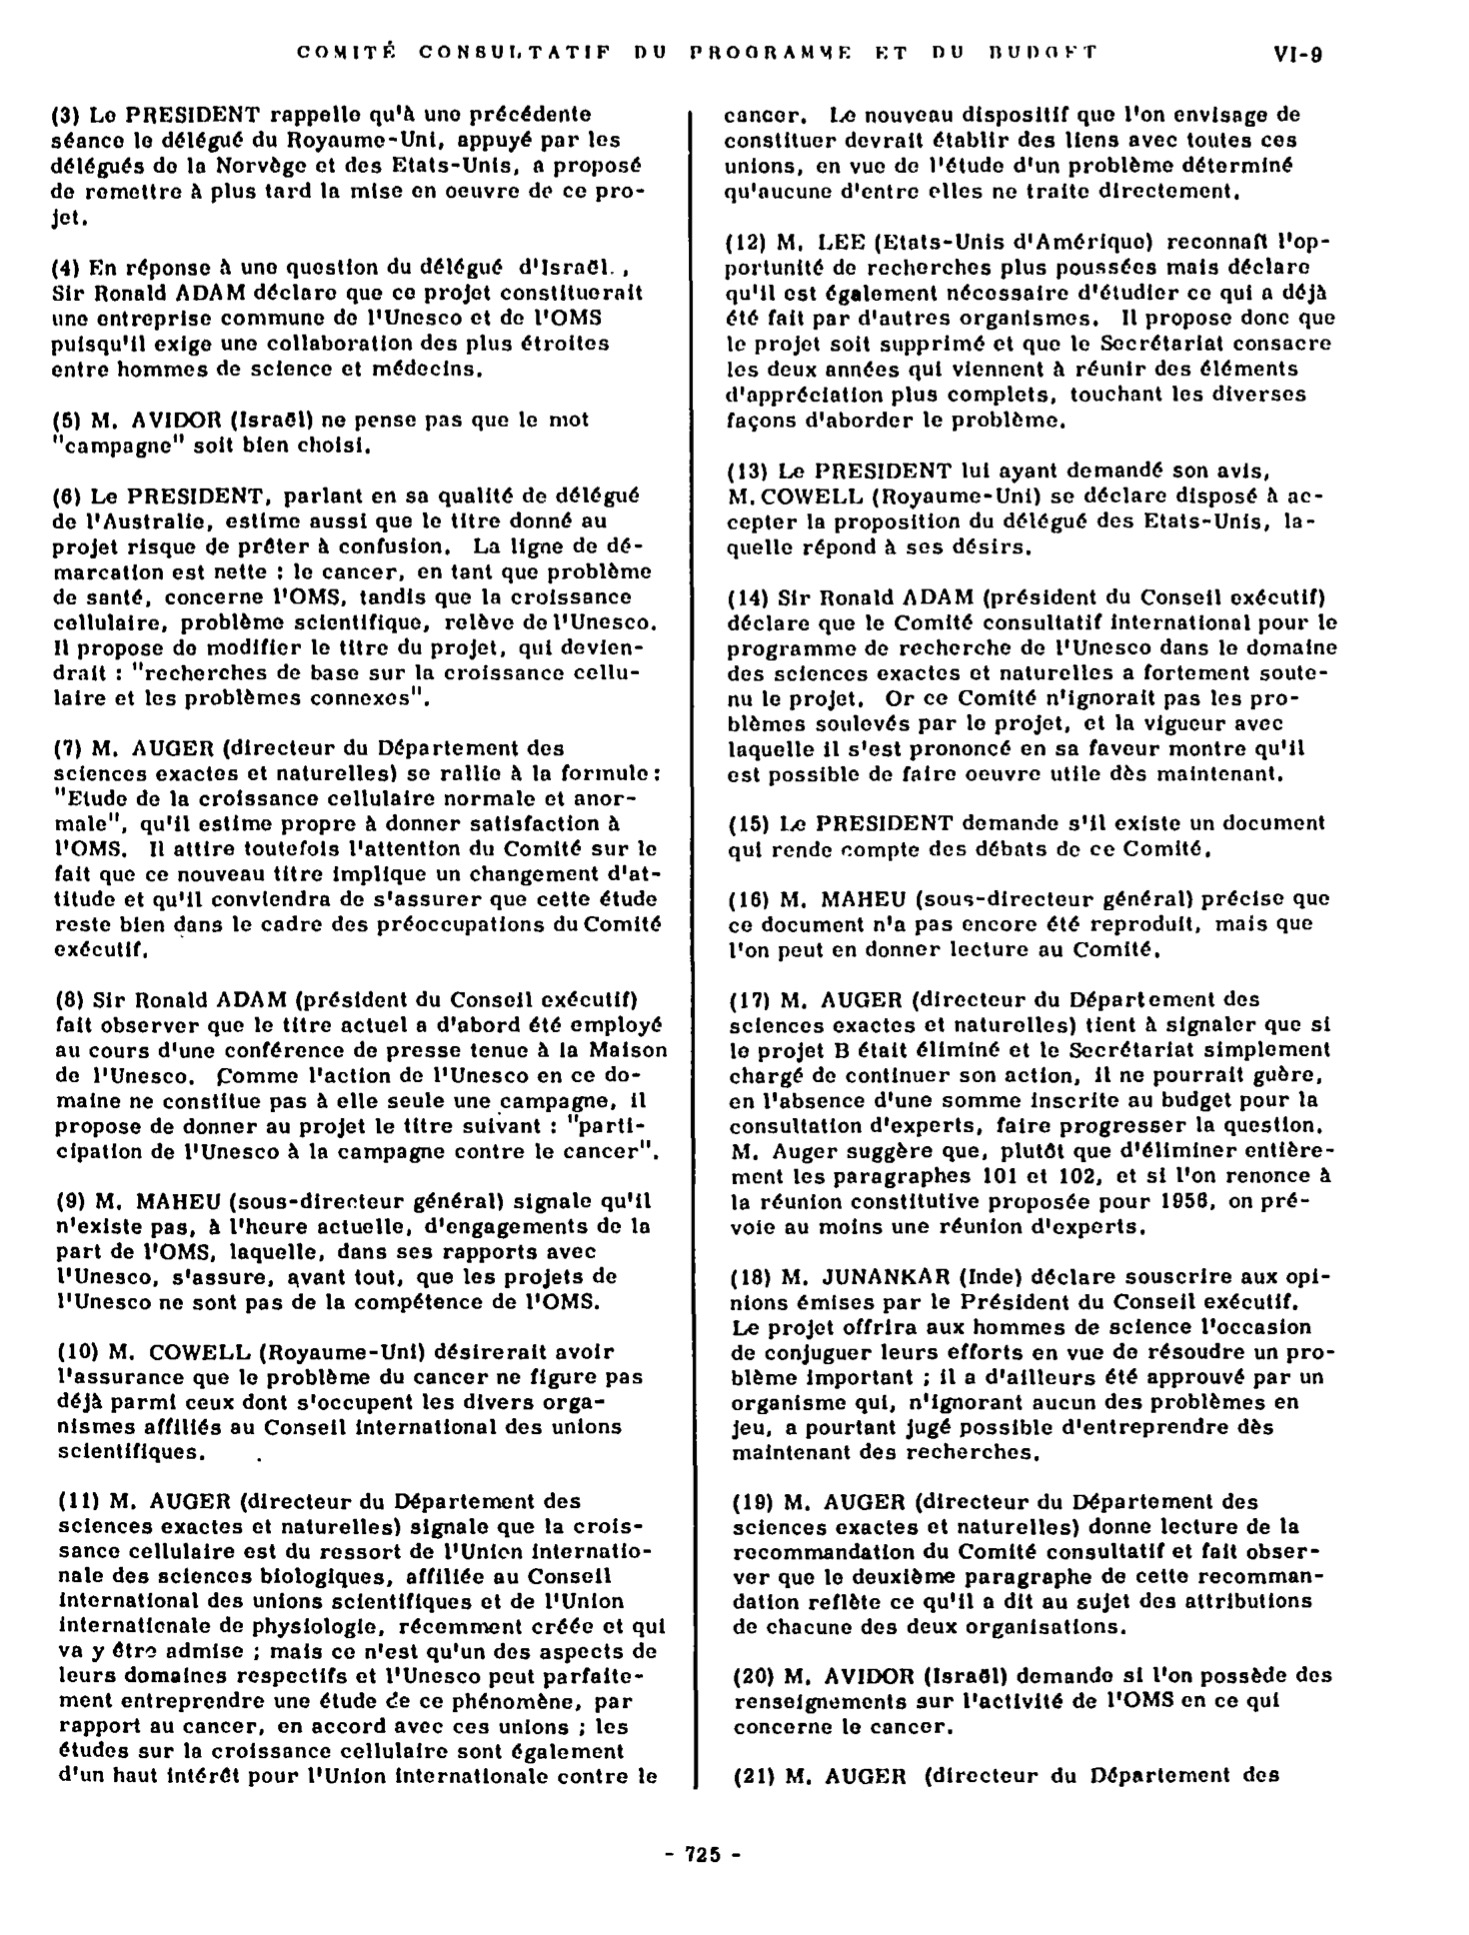MainZone-Continued: (718, 97, 1312, 210)
MainZone-ListItem: (50, 1483, 674, 1792), (722, 983, 1340, 1241), (45, 731, 668, 963), (44, 479, 658, 712), (720, 226, 1337, 437), (721, 582, 1338, 790), (724, 1261, 1336, 1467), (48, 983, 670, 1169), (725, 1485, 1329, 1641), (42, 97, 649, 233), (44, 250, 649, 386), (49, 1185, 658, 1316), (51, 1335, 653, 1467), (721, 454, 1330, 564), (725, 1658, 1337, 1744), (721, 882, 1336, 964), (721, 806, 1335, 868), (45, 401, 623, 463), (727, 1757, 1301, 1797)
StampZone: (286, 30, 1104, 76)
TitlePageZone: (660, 1837, 747, 1871), (1265, 36, 1330, 75)
